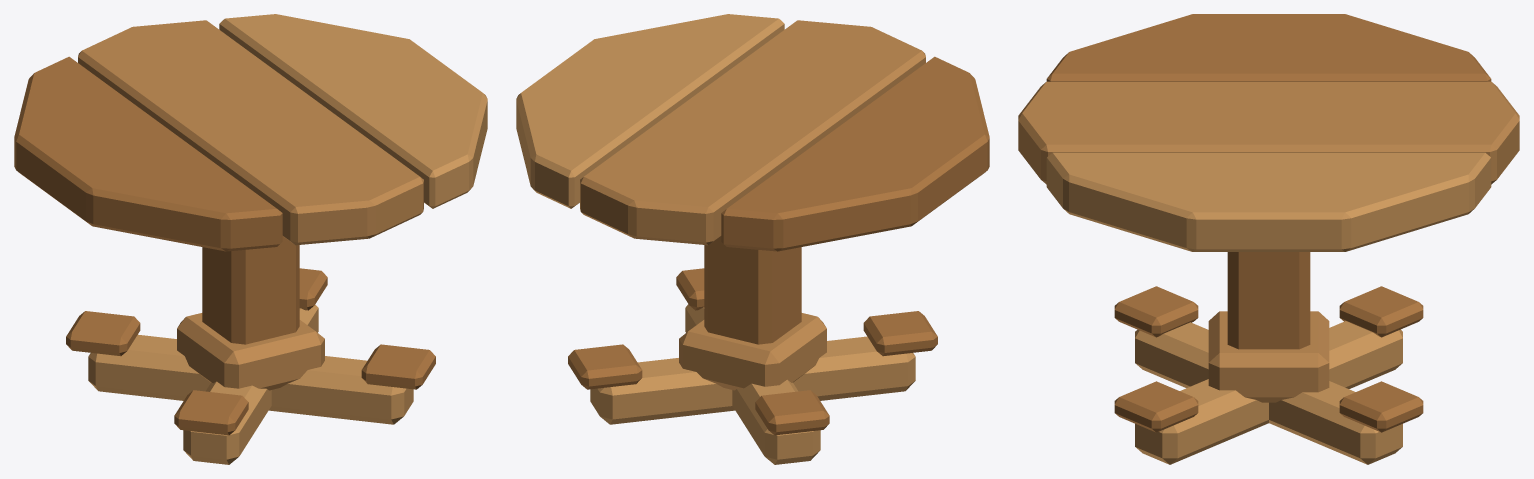
Rendered from round_table.glb.
3 renders of one model, left to right at view 1: azimuth 30°, elevation 25°; view 2: azimuth 150°, elevation 25°; view 3: azimuth 270°, elevation 25°, orthographic. The views are drawn at different scales.
Parts seen in each view (by area): view 1: round_table; view 2: round_table; view 3: round_table.
Part boxes in pixels (left/top/right/bottom): round_table: left=14, top=14, right=487, bottom=464; round_table: left=516, top=14, right=989, bottom=464; round_table: left=1018, top=14, right=1519, bottom=464.
Bounding box in the file's own units: 0.875 × 0.6 × 0.9138.
